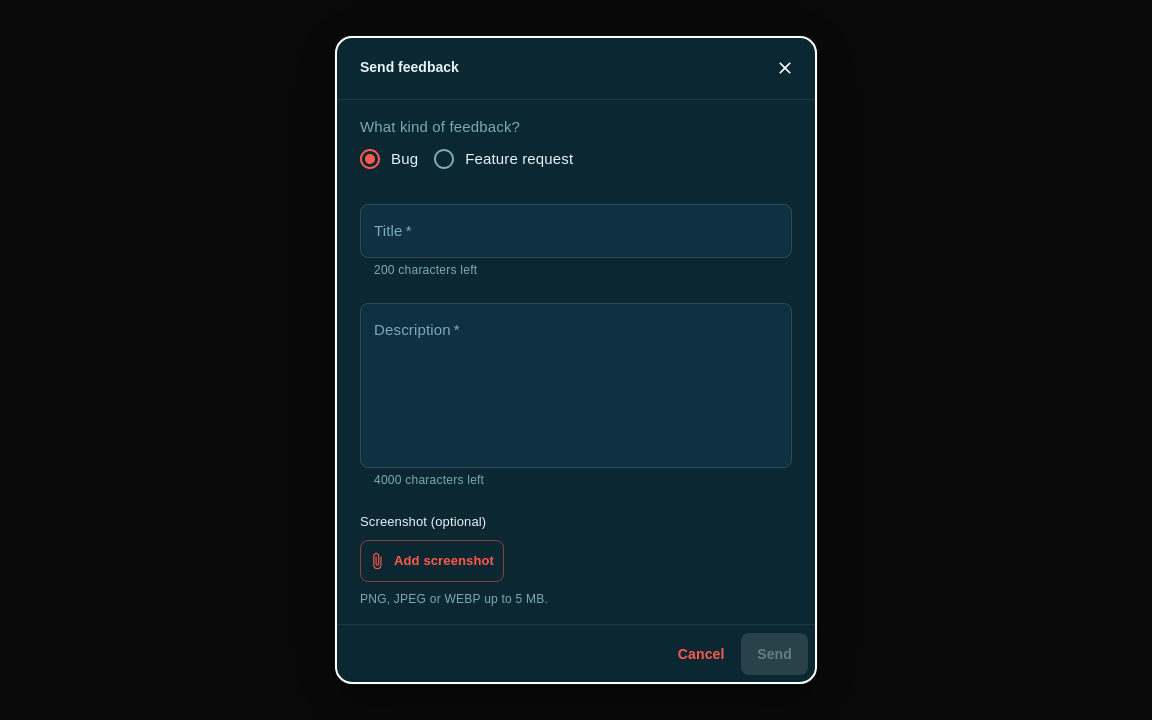
Test: FeedbackReportModal › shows the discard-confirm dialog when closing with unsaved input
The image size is (1152, 720).
// Make the form dirty.
Type "wip" into the field labelled "Title *" at (576,231), box [360,204,792,258]
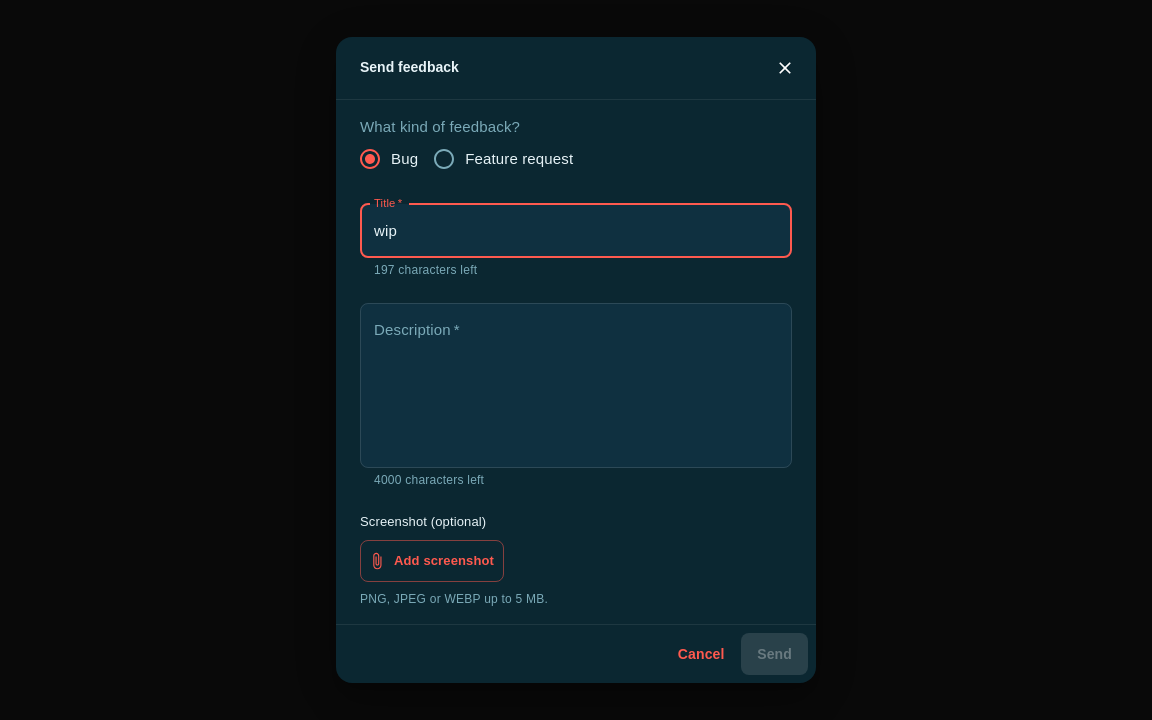
Click the button named "Close feedback modal" at (785,68), box [770,53,800,83]
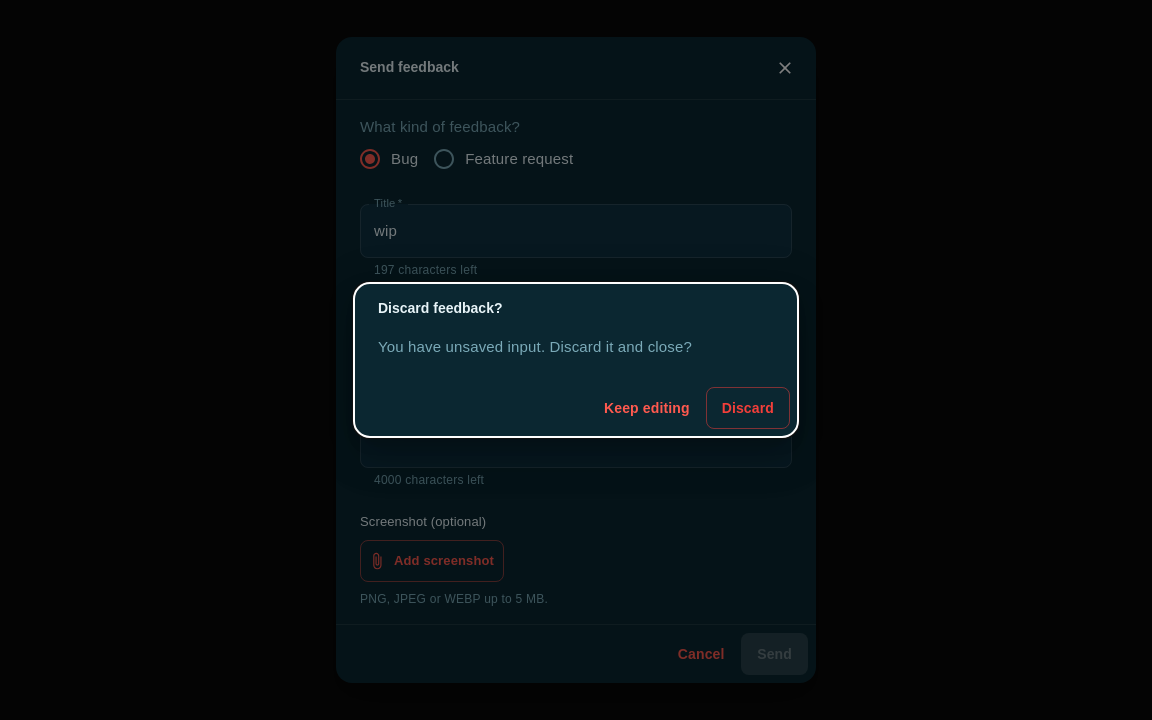
Expected: the heading "Discard feedback?" is shown, [378,300,502,316]
